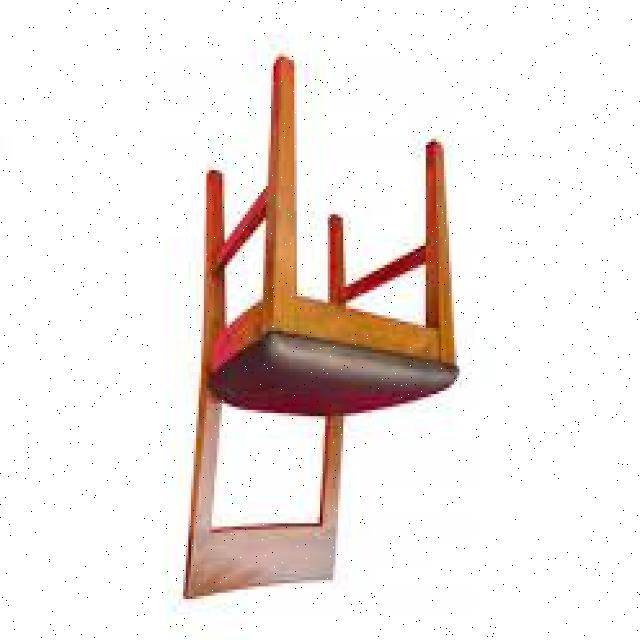bottle: (182, 49, 460, 606)
